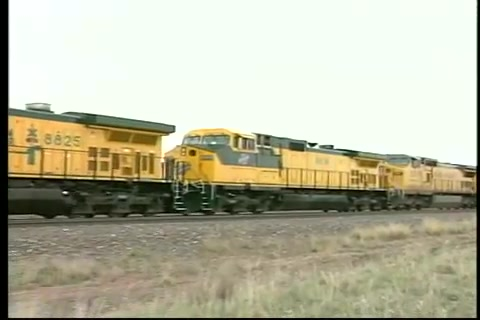train: (9, 99, 478, 223)
